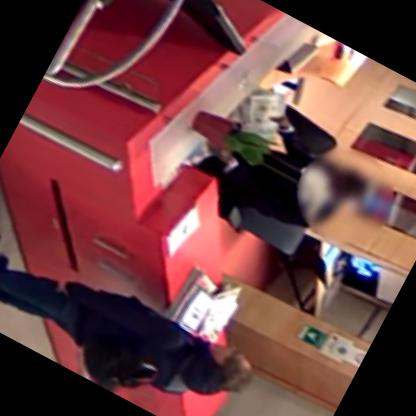Human Body: (0, 204, 269, 415), (184, 84, 386, 264)
